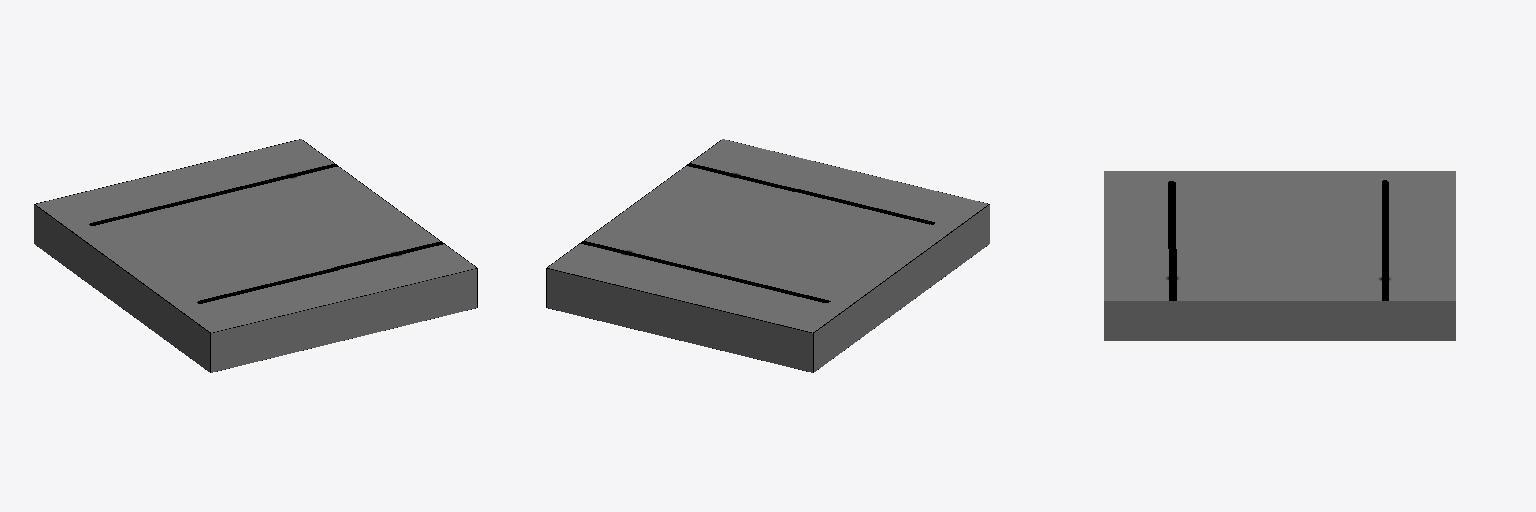
3 renders of one model, left to right at view 1: azimuth 30°, elevation 25°; view 2: azimuth 150°, elevation 25°; view 3: azimuth 270°, elevation 25°, orthographic.
Parts seen in each view (by area): view 1: loading_area_Cube.010; view 2: loading_area_Cube.010; view 3: loading_area_Cube.010.
Part boxes in pixels (x1,y1,x2,y2): loading_area_Cube.010: (34,139,477,372); loading_area_Cube.010: (546,139,989,372); loading_area_Cube.010: (1104,171,1455,340).
Bounding box in the file's own units: 14 × 2 × 16.
Materials: 1 (1 with a texture image).